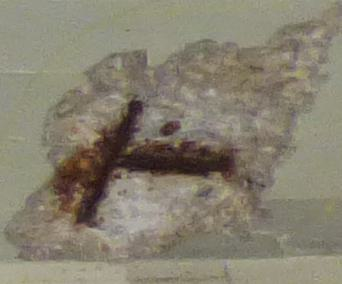Corrosion: (50, 128, 108, 215), (157, 119, 182, 138)
Exposed reinforcement: (72, 100, 144, 227), (117, 152, 232, 176)
Spalling: (1, 1, 342, 263)
